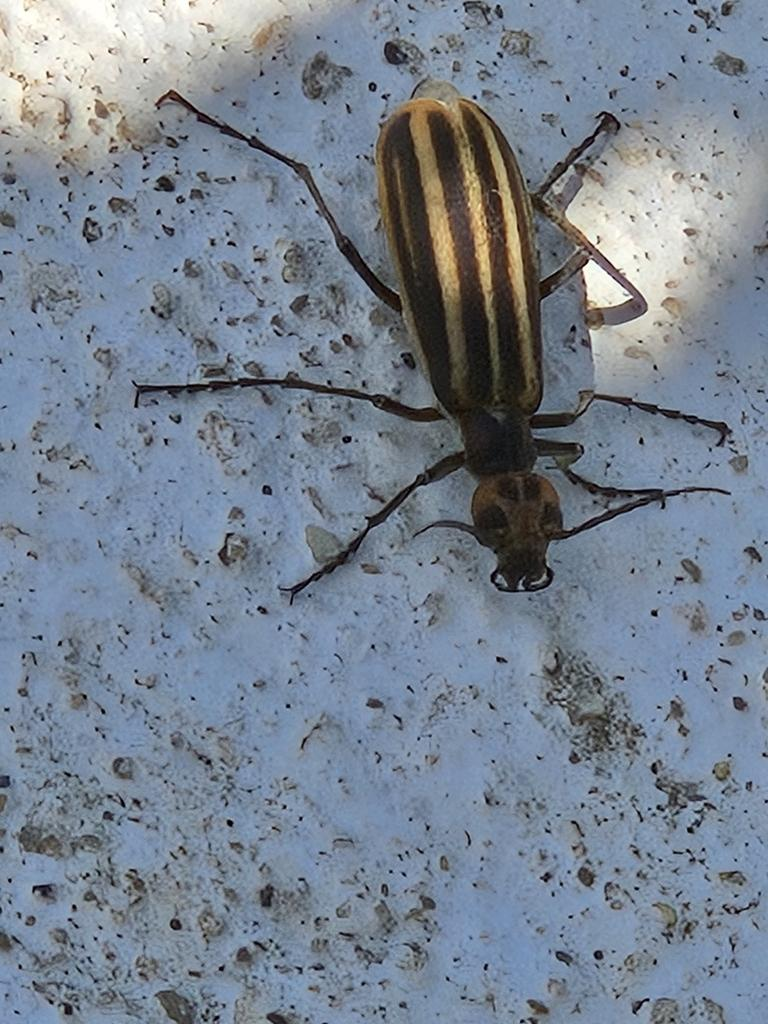blister_beetle: (89, 0, 768, 689)
